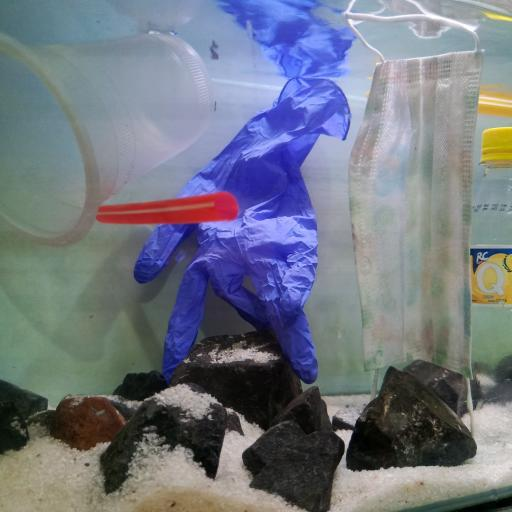bottle_cap: (480, 119, 512, 159)
glove: (134, 74, 349, 386)
mask: (346, 6, 488, 384)
plastic_bottle: (466, 124, 512, 449)
plastic_cup: (2, 32, 214, 251)
plastic_straw: (96, 192, 240, 225), (476, 91, 512, 117)
